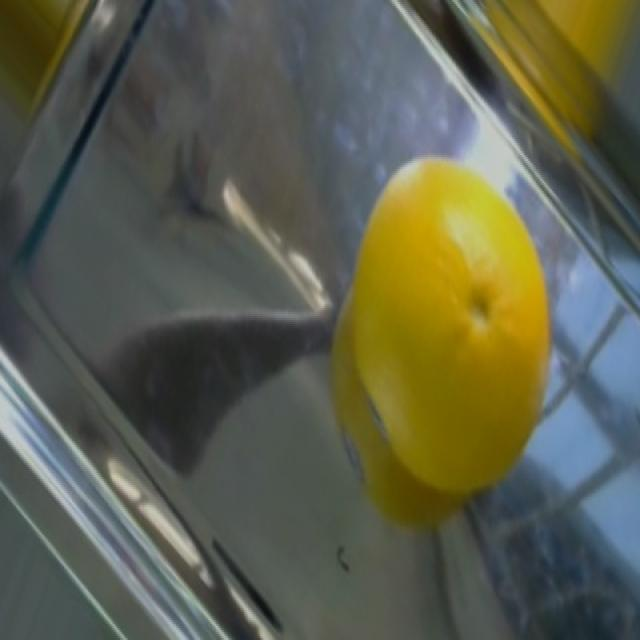Fruit: (316, 145, 568, 543)
